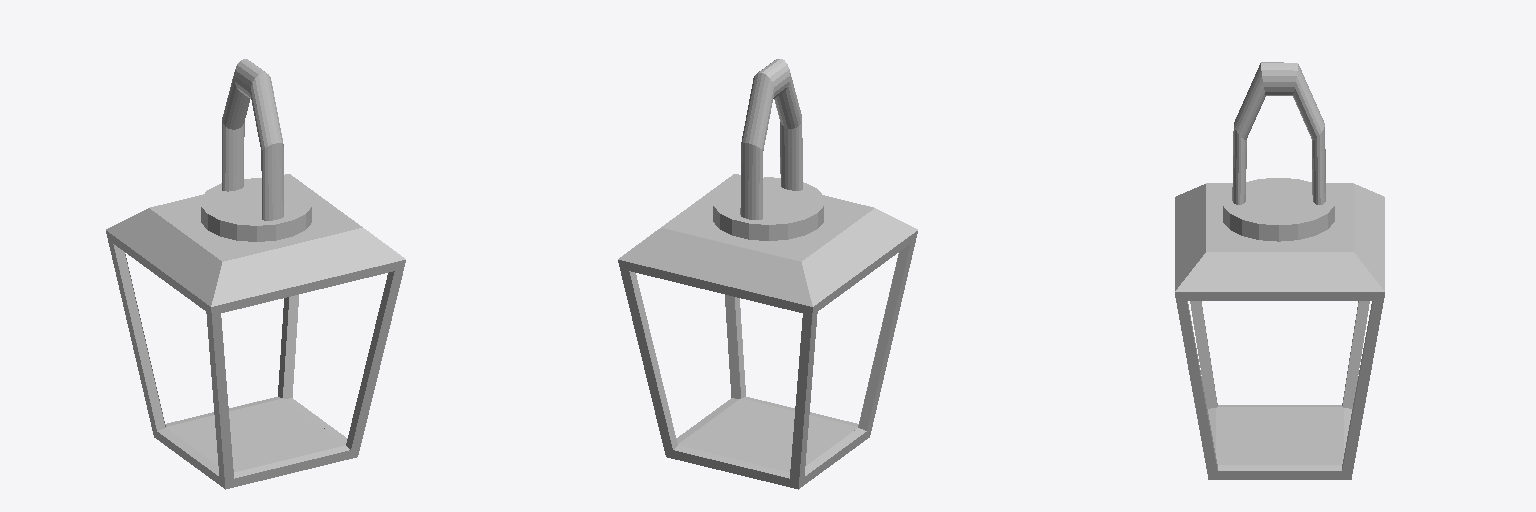
File: lantern.obj
3 renders of one model, left to right at view 1: azimuth 30°, elevation 25°; view 2: azimuth 150°, elevation 25°; view 3: azimuth 270°, elevation 25°, orthographic.
Visible parts, largest first — view 1: Box001, Cylinder001, Cylinder002; view 2: Box001, Cylinder001, Cylinder002; view 3: Box001, Cylinder002, Cylinder001.
Boxes of the visible parts, x1,y1,x2,y2 form: Box001: [106, 174, 405, 489]; Cylinder001: [222, 59, 283, 220]; Cylinder002: [201, 178, 311, 241]; Box001: [618, 174, 917, 489]; Cylinder001: [740, 59, 802, 219]; Cylinder002: [713, 177, 823, 240]; Box001: [1175, 183, 1384, 479]; Cylinder002: [1223, 178, 1334, 241]; Cylinder001: [1232, 62, 1325, 204].
Size of the model in its own units: 34.54 by 64.57 by 32.29.